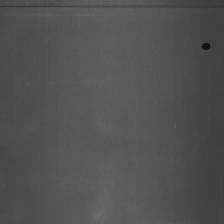welding_line: (0, 1, 222, 15), (200, 39, 213, 52)
